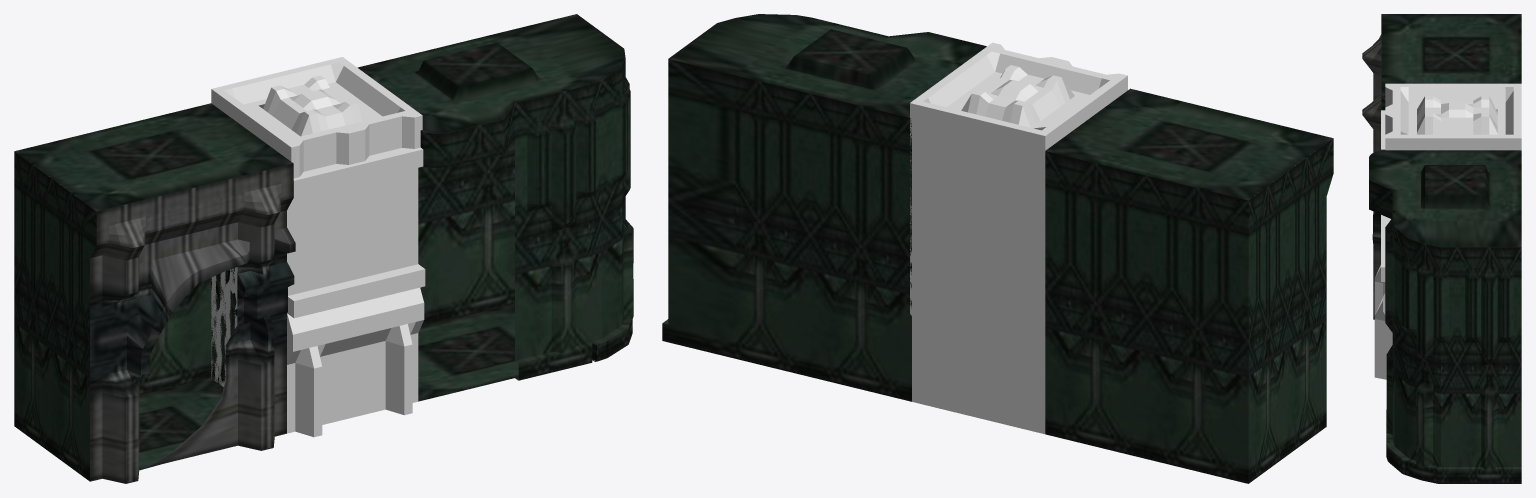
The model's file is confessionary.fbx.
3 renders of one model, left to right at view 1: azimuth 30°, elevation 25°; view 2: azimuth 150°, elevation 25°; view 3: azimuth 270°, elevation 25°, orthographic. The views are drawn at different scales.
Visible parts, largest first — view 1: Cube.001; view 2: Cube.001; view 3: Cube.001.
Part boxes in pixels (left/top/right/bottom): Cube.001: left=14, top=14, right=633, bottom=483; Cube.001: left=662, top=14, right=1333, bottom=483; Cube.001: left=1362, top=14, right=1521, bottom=483.
Size of the model in its own units: 865 by 429 by 247.
3 materials, 2 textured.
